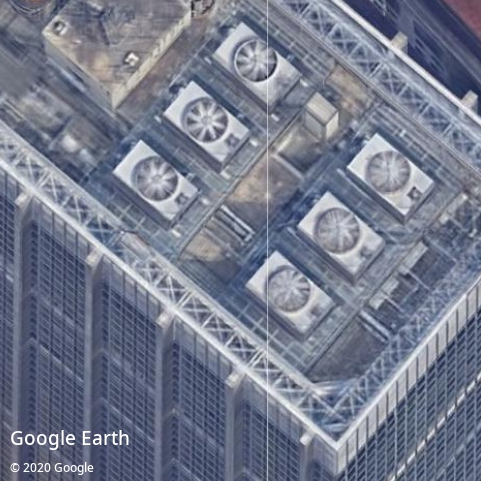Vent: (234, 39, 278, 83), (136, 157, 179, 202), (269, 269, 312, 313), (318, 208, 360, 253), (186, 101, 229, 143), (369, 150, 411, 193)
